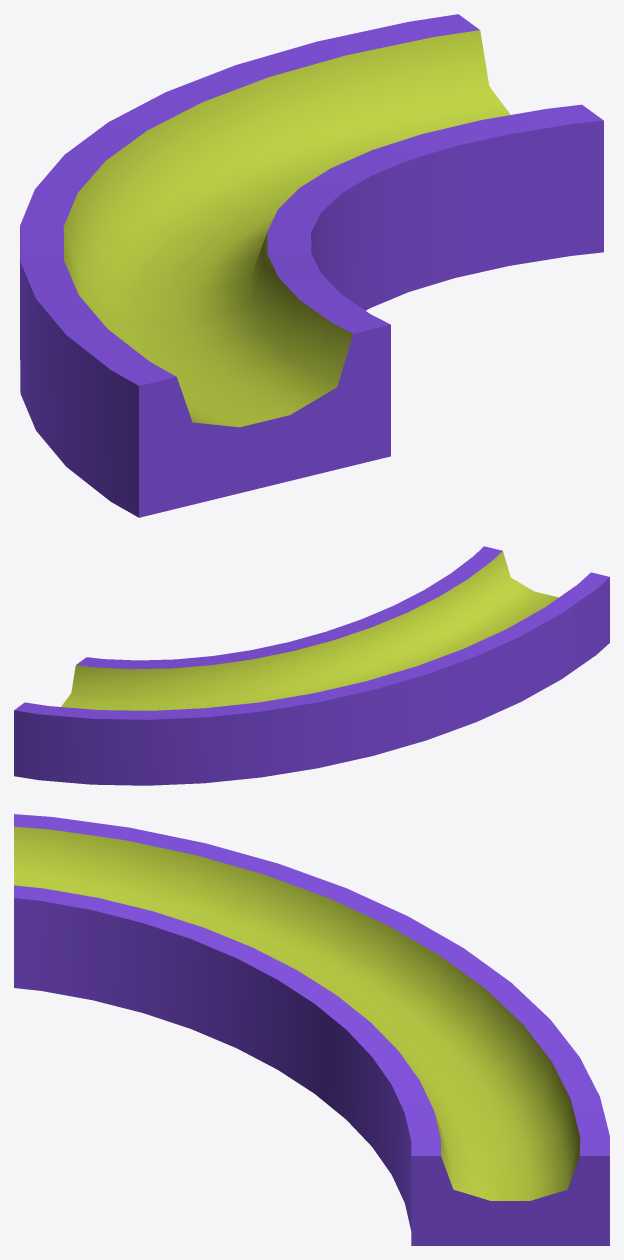
The model's file is helix_large_quarter_left-col.dae.
The picture shows the model from 3 angles, top to bottom: view 1: azimuth 30°, elevation 25°; view 2: azimuth 150°, elevation 25°; view 3: azimuth 270°, elevation 25°; orthographic projection. The views are drawn at different scales.
Parts seen in each view (by area): view 1: helix_large_quarter_left-col; view 2: helix_large_quarter_left-col; view 3: helix_large_quarter_left-col.
Boxes of the visible parts, box(x1,y1,x2,y2) form: helix_large_quarter_left-col: box(20, 14, 603, 517); helix_large_quarter_left-col: box(14, 546, 609, 785); helix_large_quarter_left-col: box(14, 814, 609, 1245).
Bounding box in the file's own units: 3 × 3 × 1.
